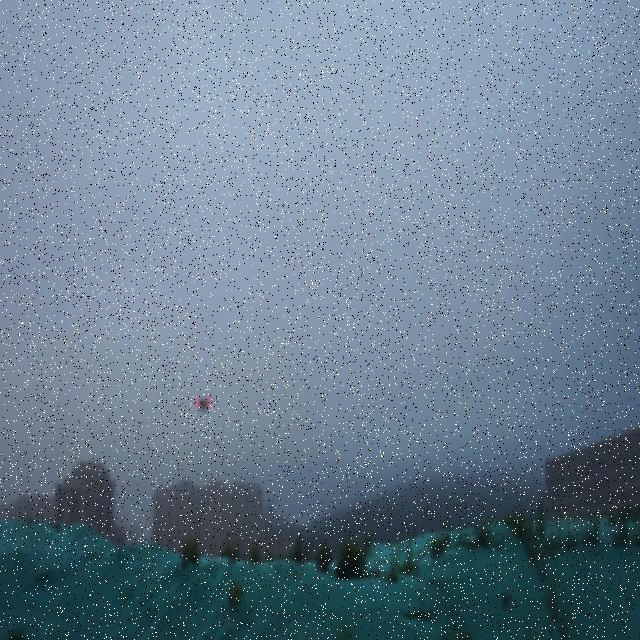UAV: (196, 394, 212, 415)
